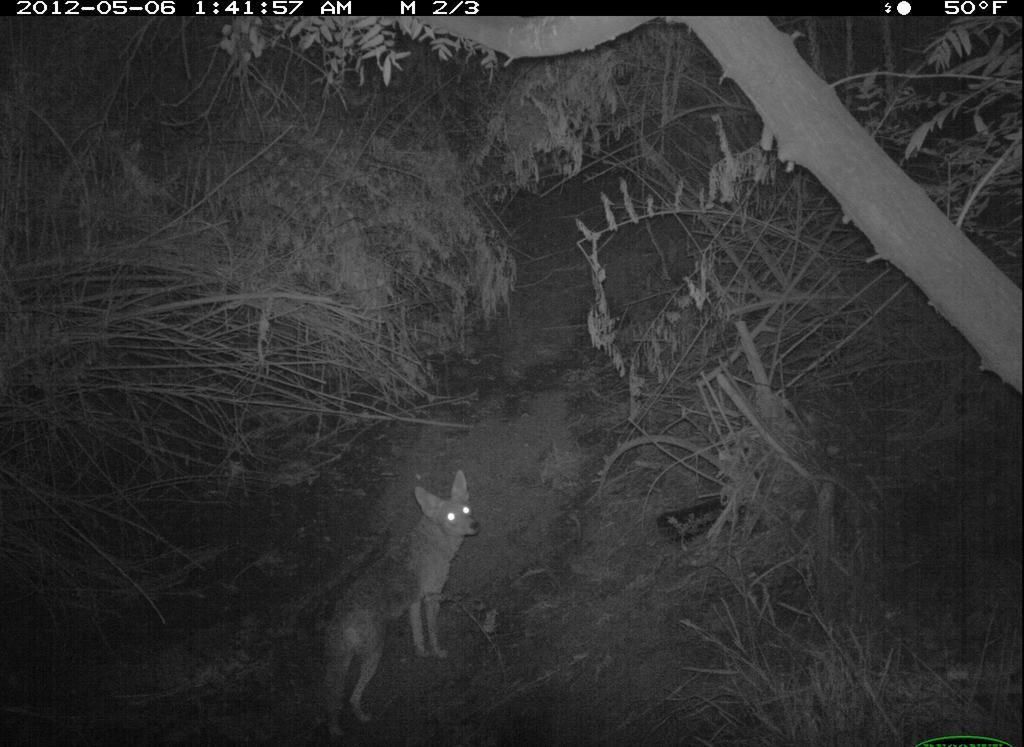coyote: (304, 457, 491, 745)
